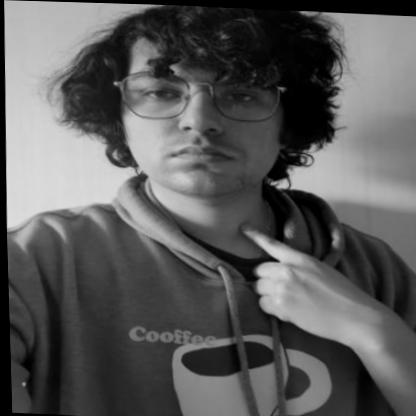Q: (235, 218, 381, 335)
